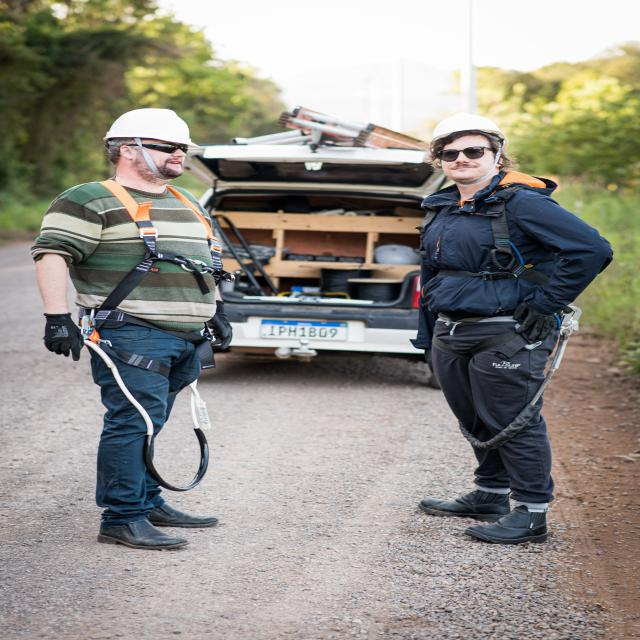botas: (94, 507, 194, 556), (461, 504, 554, 543), (130, 495, 225, 532), (416, 490, 516, 522)
capacete: (98, 104, 207, 154), (426, 111, 512, 149)
corda de vida: (75, 172, 219, 393), (411, 181, 562, 370)
luva: (36, 308, 90, 363), (506, 296, 564, 345), (198, 296, 242, 351)
